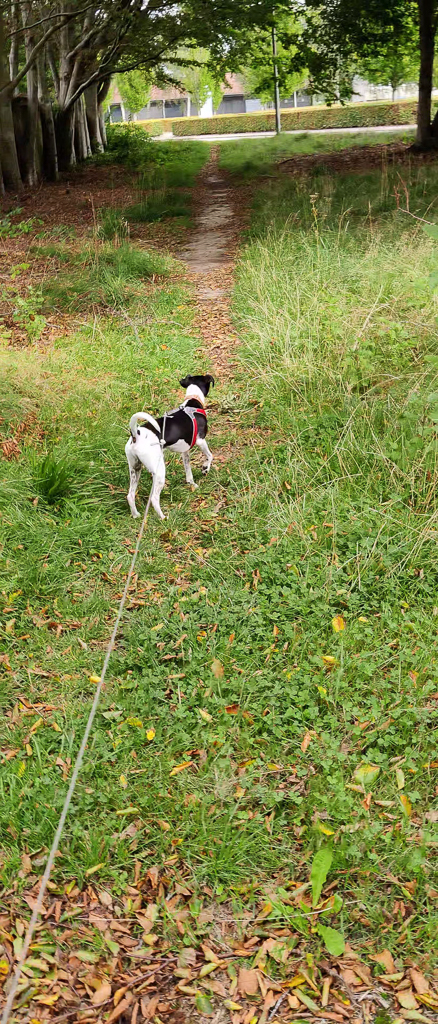Dog: (117, 367, 229, 524)
